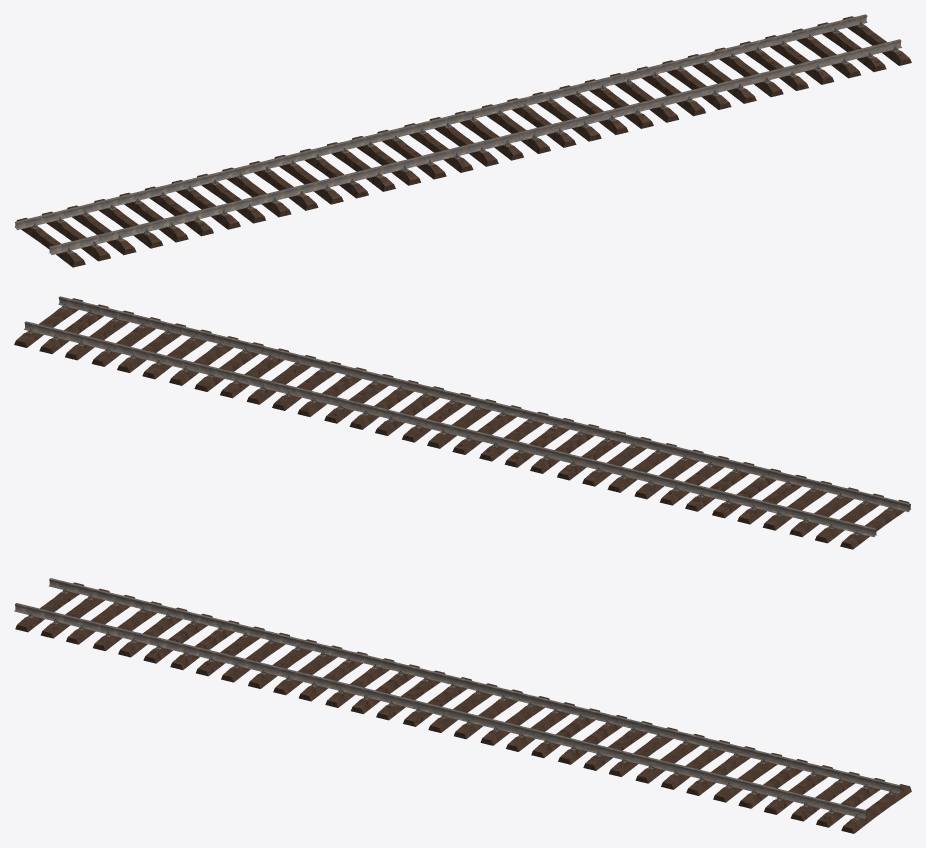
File: w_railway_rail - copia.glb
The picture shows the model from 3 angles, top to bottom: view 1: azimuth 30°, elevation 25°; view 2: azimuth 150°, elevation 25°; view 3: azimuth 330°, elevation 25°; orthographic projection.
Visible parts, largest first — view 1: rail2; view 2: rail2; view 3: rail2.
Boxes of the visible parts, left/top/right/bottom form: rail2: left=15, top=14, right=911, bottom=267; rail2: left=14, top=296, right=910, bottom=549; rail2: left=14, top=578, right=911, bottom=833.
Bounding box in the file's own units: 11.9 × 0.1936 × 1.4.
2 materials, 2 textured.
